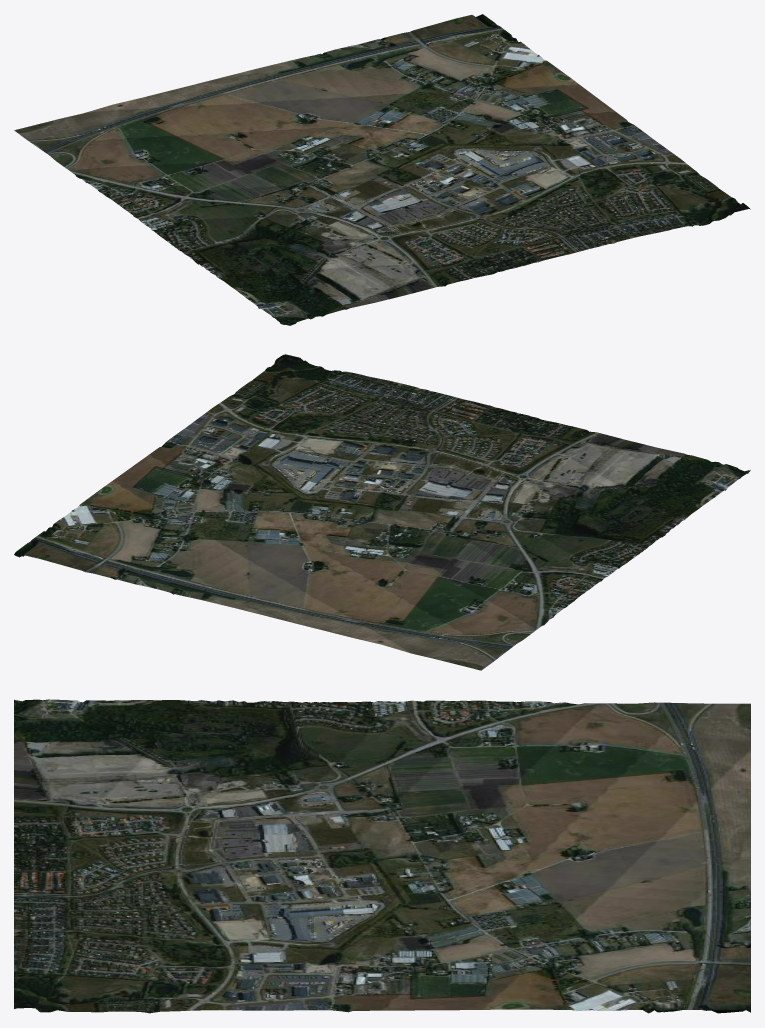
The model's file is map_10_250_428.dae.
3 views of the same model, one above another, from view 1: azimuth 30°, elevation 25°; view 2: azimuth 150°, elevation 25°; view 3: azimuth 270°, elevation 25° (orthographic). The views are drawn at different scales.
Visible parts, largest first — view 1: Ter0; view 2: Ter0; view 3: Ter0.
Boxes of the visible parts, x1=… form: Ter0: x1=14, y1=14, x2=750, y2=325; Ter0: x1=14, y1=354, x2=750, y2=670; Ter0: x1=14, y1=699, x2=750, y2=1013.
Bounding box in the file's own units: 2044 × 2044 × 45.88.
Materials: 3 (3 with a texture image).
